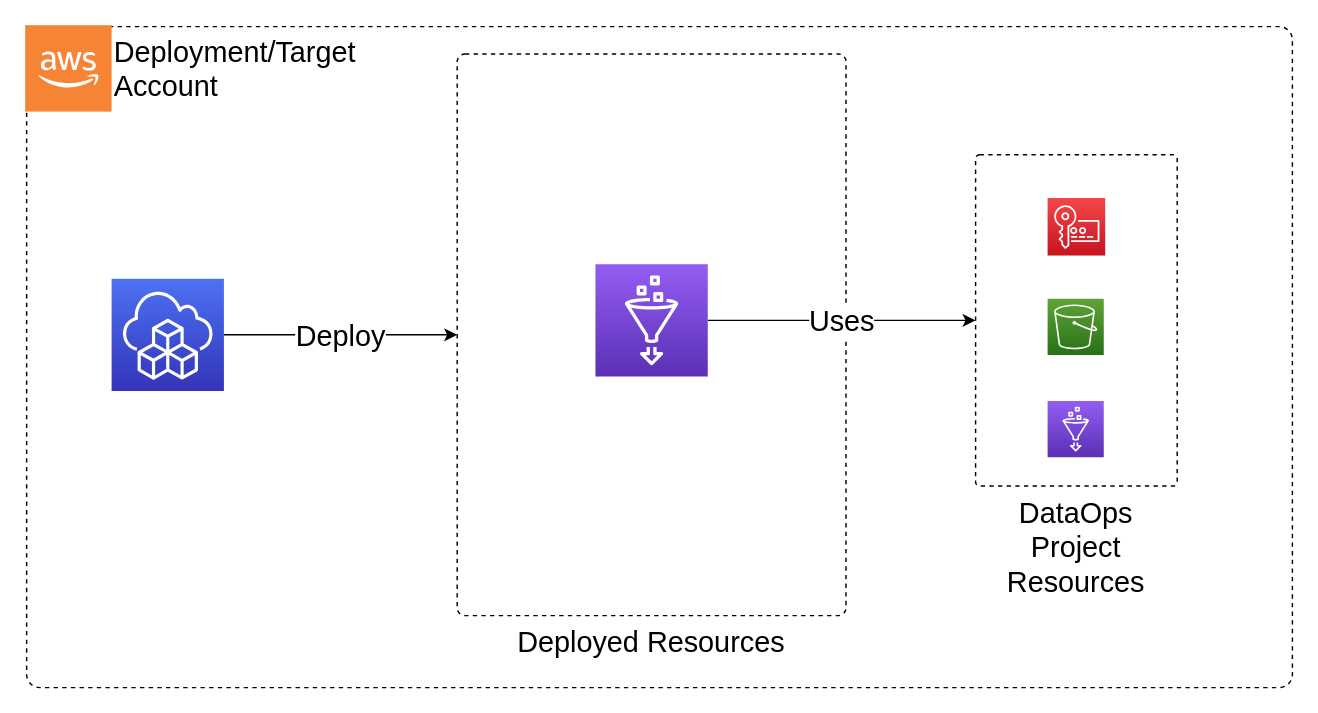
The diagram is 1318 pixels wide and 713 high, and some of its shapes have lost their labels. The shapes that lost their labels are listed below. From the top down, each one's centre as x and y in pixels, then its label:
At (167,334): "CAEF/CDK".
At (651,320): "Glue Job(s)".
